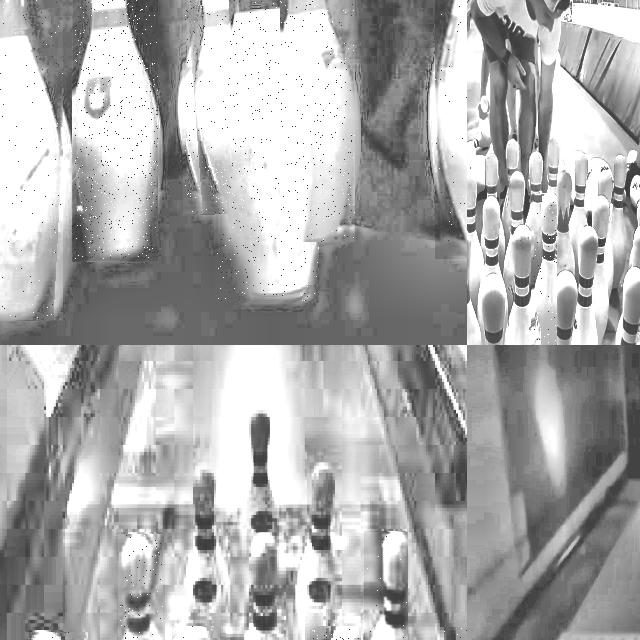bowling-pins: (217, 0, 318, 301), (75, 0, 157, 259), (282, 0, 354, 242), (188, 0, 226, 213), (184, 466, 228, 640), (295, 462, 337, 640), (240, 410, 279, 559), (504, 224, 538, 345), (369, 532, 407, 640), (245, 532, 282, 640), (120, 534, 156, 640), (533, 194, 557, 345), (572, 225, 598, 345), (503, 170, 525, 311), (592, 195, 610, 345), (609, 154, 627, 287), (467, 168, 484, 308), (554, 167, 576, 275), (525, 150, 543, 281), (569, 152, 588, 276), (478, 273, 508, 345), (482, 195, 504, 278), (554, 270, 577, 345), (619, 267, 640, 345), (467, 232, 481, 345), (547, 136, 560, 186), (624, 267, 638, 288), (617, 314, 624, 345)
